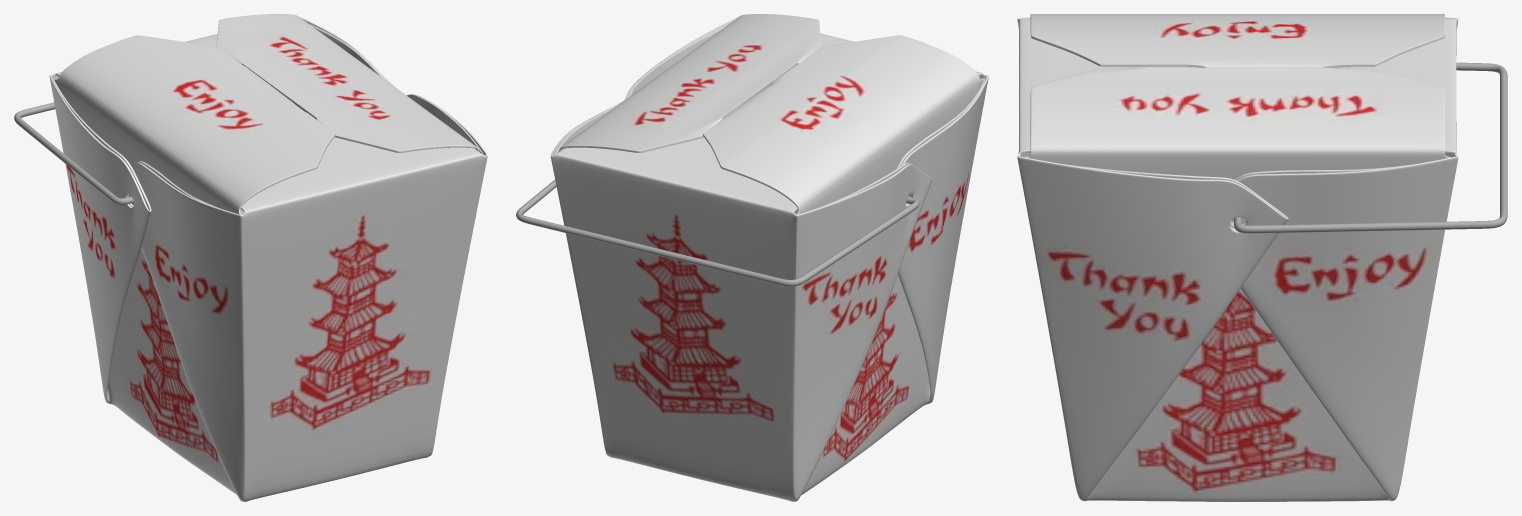
File: takeout.glb
The picture shows the model from 3 angles, left to right: view 1: azimuth 30°, elevation 25°; view 2: azimuth 150°, elevation 25°; view 3: azimuth 270°, elevation 25°; orthographic projection. The views are drawn at different scales.
Parts seen in each view (by area): view 1: pack, handle; view 2: pack, handle; view 3: pack, handle.
Boxes of the visible parts, bbox=[...] form: pack: bbox=[49, 14, 487, 501]; handle: bbox=[14, 102, 133, 204]; pack: bbox=[550, 14, 988, 501]; handle: bbox=[516, 179, 919, 286]; pack: bbox=[1017, 14, 1458, 501]; handle: bbox=[1234, 62, 1507, 233].
Bounding box in the file's own units: 0.8933 × 0.9592 × 1.09.
2 materials, 1 textured.
